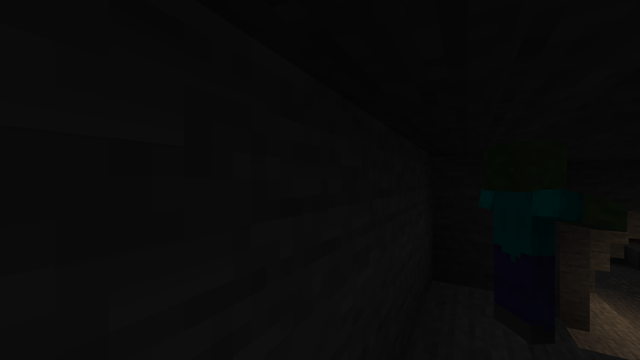zombies: (487, 144, 568, 355)
